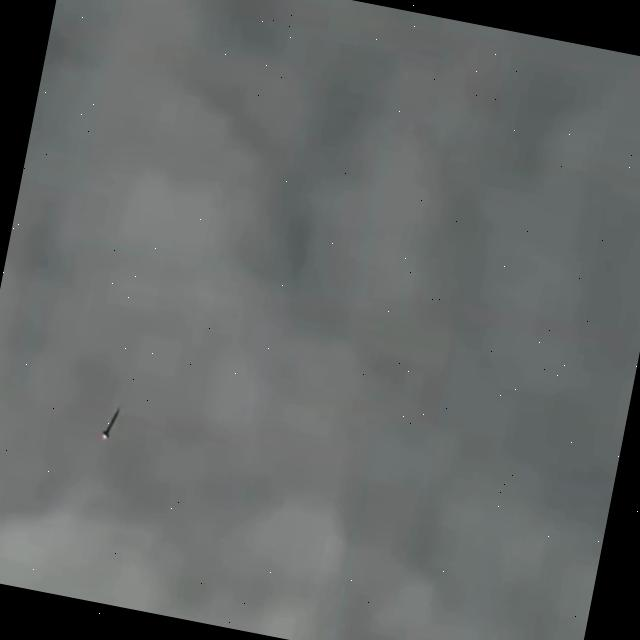rocket: (101, 408, 122, 439)
